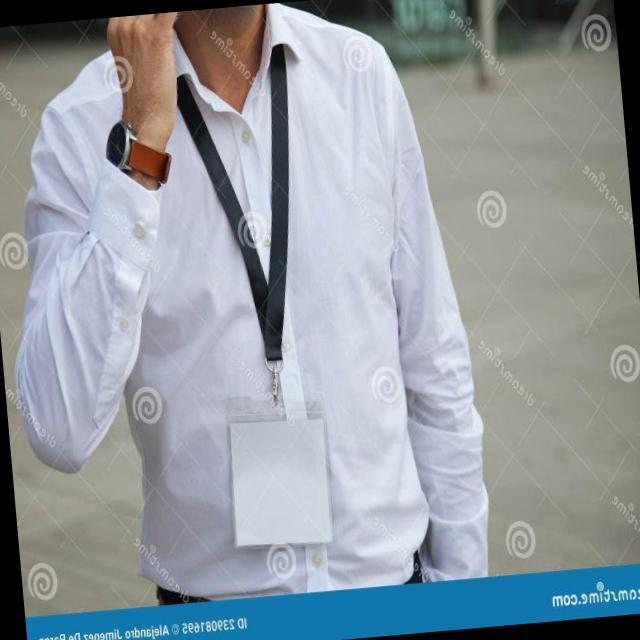id_card: (173, 53, 342, 552)
